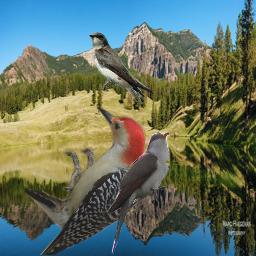Cuckoo: (106, 132, 170, 256)
Swallow: (89, 32, 155, 104)
Woodpecker: (26, 104, 152, 255)
